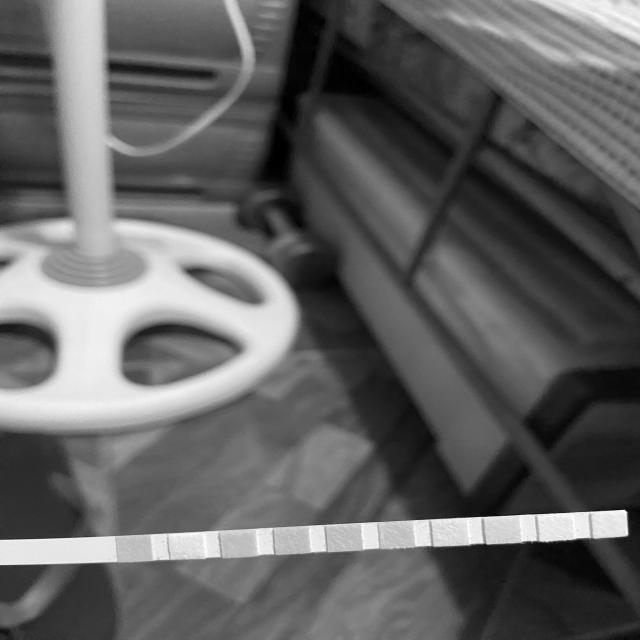Bilirubin: (171, 534, 204, 558)
Blood: (328, 525, 360, 551)
Glucose: (118, 536, 150, 560)
Ketone: (224, 531, 256, 557)
Leukocytes: (592, 512, 626, 537)
Nitrite: (538, 515, 572, 540)
Protein: (434, 519, 466, 545)
SpGravity: (277, 528, 308, 554)
Urobilinogen: (485, 517, 519, 543)
background: (0, 0, 640, 640)
pH: (380, 522, 412, 548)
strip: (1, 510, 629, 566)
